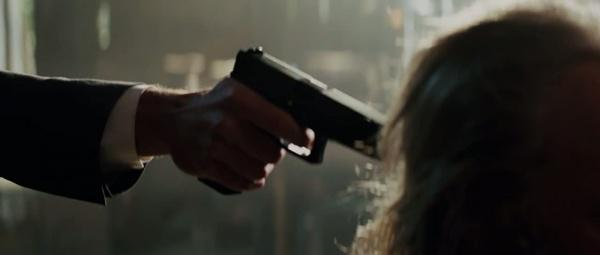Gun: (231, 47, 387, 165)
